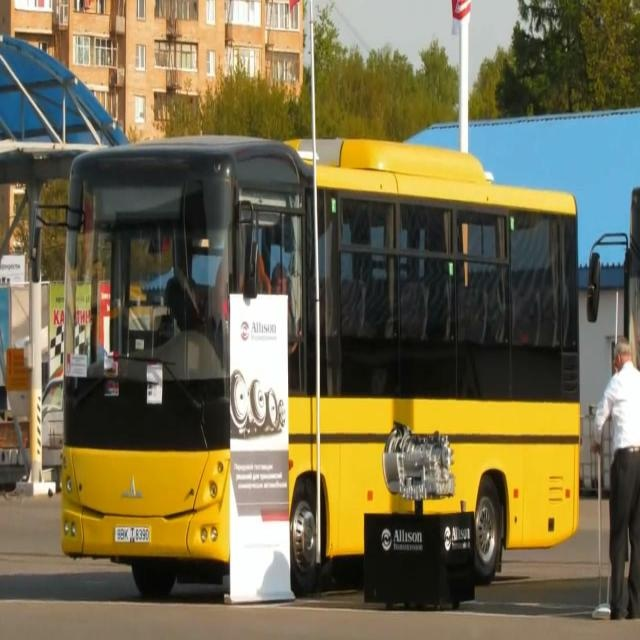Bus: (19, 123, 587, 614)
